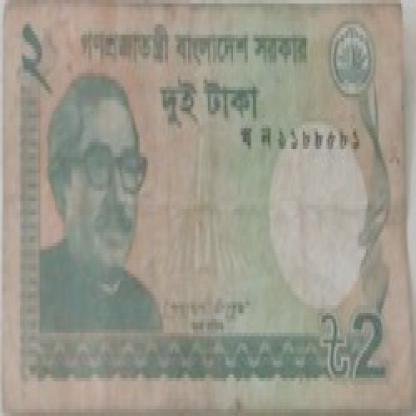two taka: (346, 291, 393, 392), (14, 10, 64, 100)
